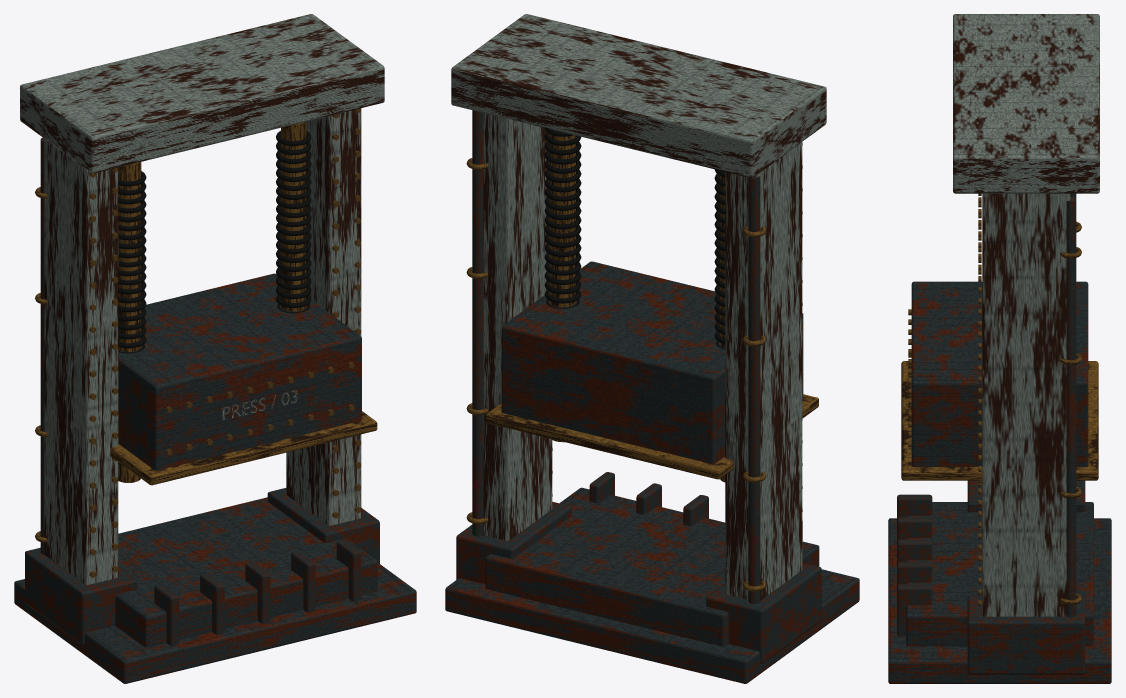
The model's file is abyssal-press.glb.
3 renders of one model, left to right at view 1: azimuth 30°, elevation 25°; view 2: azimuth 150°, elevation 25°; view 3: azimuth 270°, elevation 25°, orthographic. The views are drawn at different scales.
Visible parts, largest first — view 1: L03_abyssal-press_L03_oxidized-iron, L03_abyssal-press_L03_enamel-ivory, L03_abyssal-press_L03_aged-brass, L03_abyssal-press_L03_rubber-dark; view 2: L03_abyssal-press_L03_oxidized-iron, L03_abyssal-press_L03_enamel-ivory, L03_abyssal-press_L03_aged-brass, L03_abyssal-press_L03_rubber-dark; view 3: L03_abyssal-press_L03_enamel-ivory, L03_abyssal-press_L03_oxidized-iron, L03_abyssal-press_L03_aged-brass.
Part boxes in pixels (x1,y1,x2,y2): L03_abyssal-press_L03_oxidized-iron: [14, 137, 416, 683]; L03_abyssal-press_L03_enamel-ivory: [20, 14, 384, 584]; L03_abyssal-press_L03_aged-brass: [35, 108, 377, 577]; L03_abyssal-press_L03_rubber-dark: [118, 131, 311, 464]; L03_abyssal-press_L03_oxidized-iron: [445, 110, 859, 683]; L03_abyssal-press_L03_enamel-ivory: [451, 14, 826, 600]; L03_abyssal-press_L03_aged-brass: [466, 130, 818, 591]; L03_abyssal-press_L03_rubber-dark: [544, 128, 725, 349]; L03_abyssal-press_L03_enamel-ivory: [953, 14, 1099, 616]; L03_abyssal-press_L03_oxidized-iron: [888, 193, 1111, 683]; L03_abyssal-press_L03_aged-brass: [901, 193, 1098, 606].
Size of the model in its own units: 5.9 by 9.9 by 3.8.
4 materials, 4 textured.
